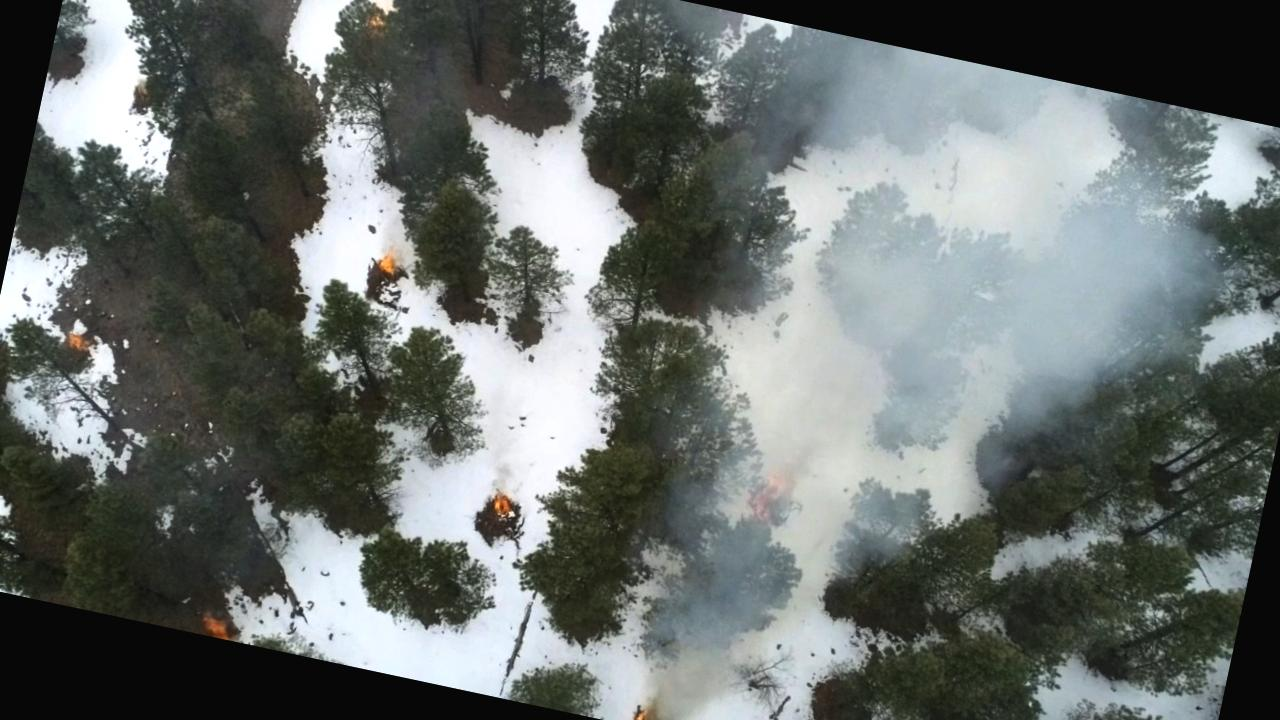fire: (744, 454, 800, 530), (484, 480, 520, 520), (370, 248, 403, 276)
smoke: (607, 0, 1262, 386), (630, 280, 1112, 638)
